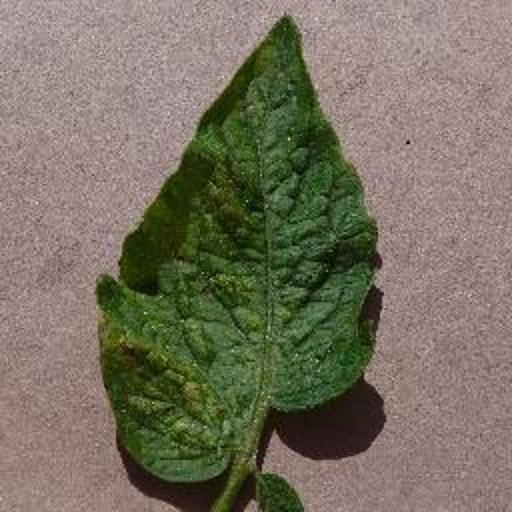Spider Mite: (77, 15, 408, 511)
